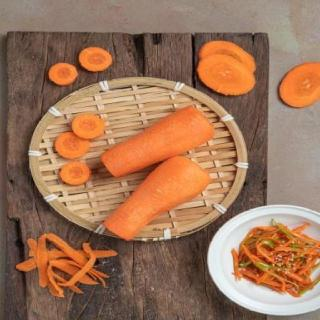carrot: (94, 154, 214, 242), (94, 100, 218, 182)
